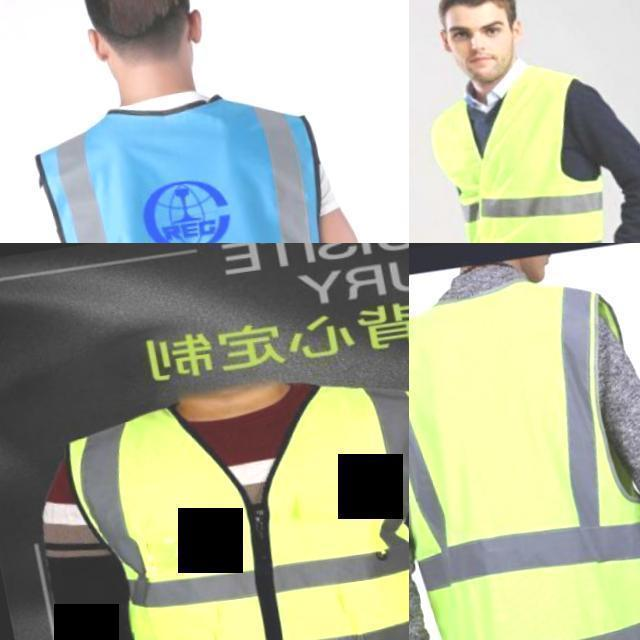vest: (56, 379, 409, 640), (409, 295, 640, 640), (27, 95, 354, 243), (426, 82, 609, 243)
